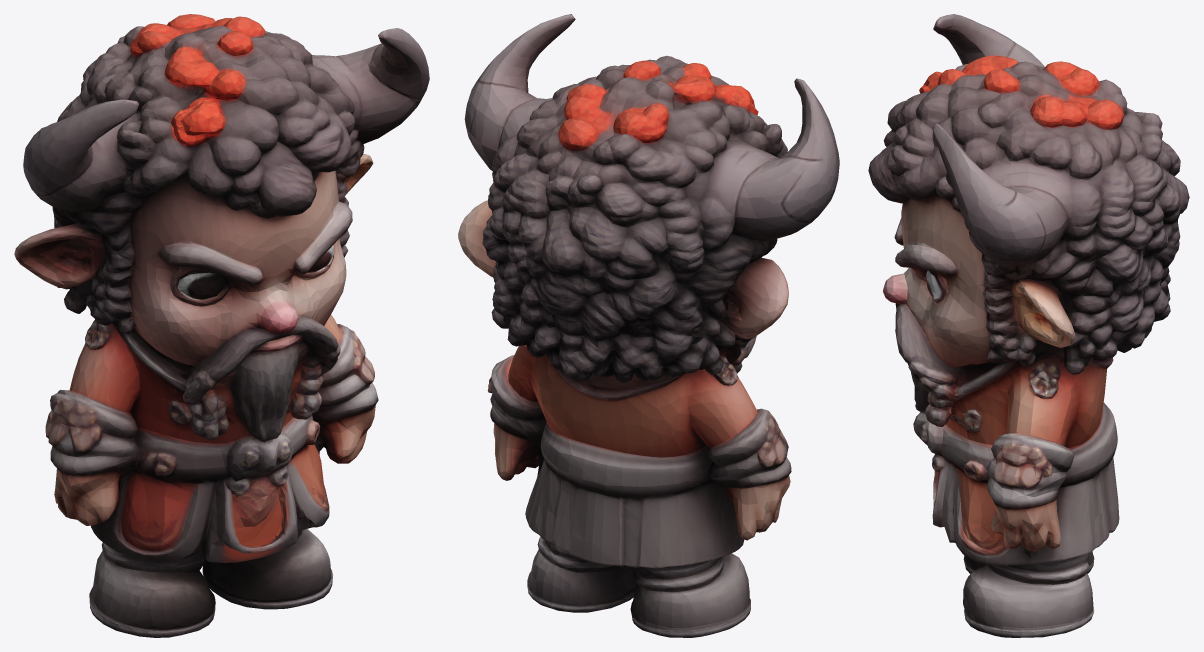
Rendered from statue_1.glb.
3 views of the same model, side by side, from view 1: azimuth 30°, elevation 25°; view 2: azimuth 150°, elevation 25°; view 3: azimuth 270°, elevation 25° (orthographic). The views are drawn at different scales.
Visible parts, largest first — view 1: world; view 2: world; view 3: world.
Boxes of the visible parts, x1=… form: world: x1=14, y1=14, x2=429, y2=637; world: x1=458, y1=14, x2=839, y2=637; world: x1=868, y1=14, x2=1189, y2=637.
Bounding box in the file's own units: 0.7166 × 1 × 0.5583.
Materials: 1 (1 with a texture image).
